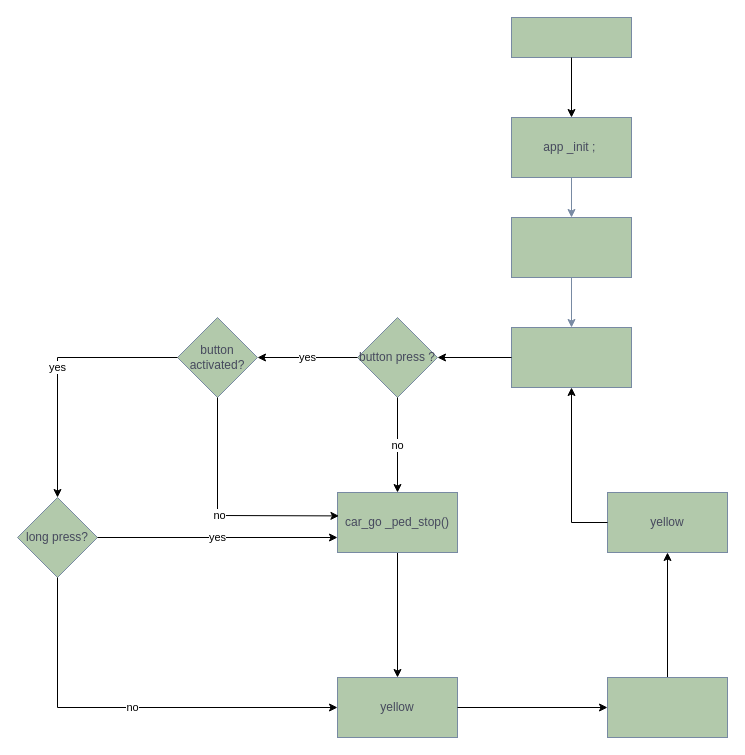
The diagram is 745 pixels wide and 755 high, and some of its shapes have lost their labels. The centre of each missing label's shape, as x and y in pixels:
"app_start();" belongs at (571,357).
"led_init button init ; global interrupt init" belongs at (571,247).
"ped_go_car_stop()" belongs at (667,707).
"start" belongs at (571,37).
